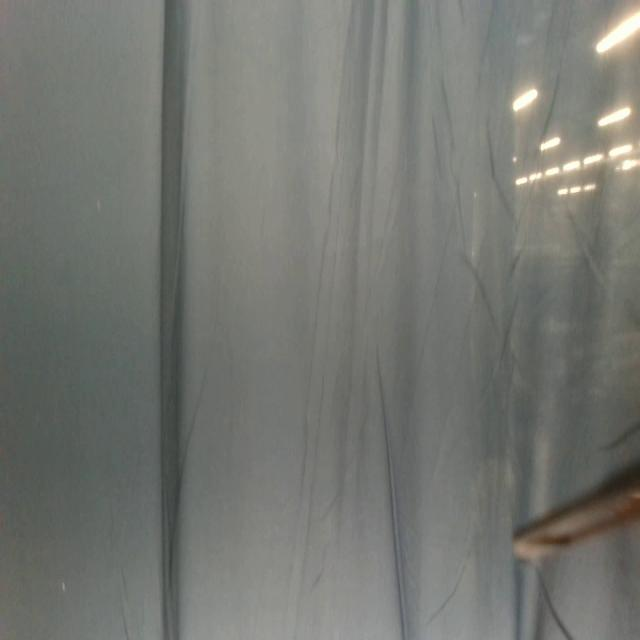crease: (284, 1, 355, 636), (158, 0, 186, 640), (375, 346, 410, 640), (533, 564, 578, 640), (426, 558, 470, 631), (459, 250, 498, 332), (535, 68, 563, 156), (498, 288, 518, 372), (602, 411, 640, 453), (437, 75, 458, 150), (427, 113, 444, 177), (454, 173, 470, 241), (485, 102, 496, 182), (509, 234, 529, 276)
